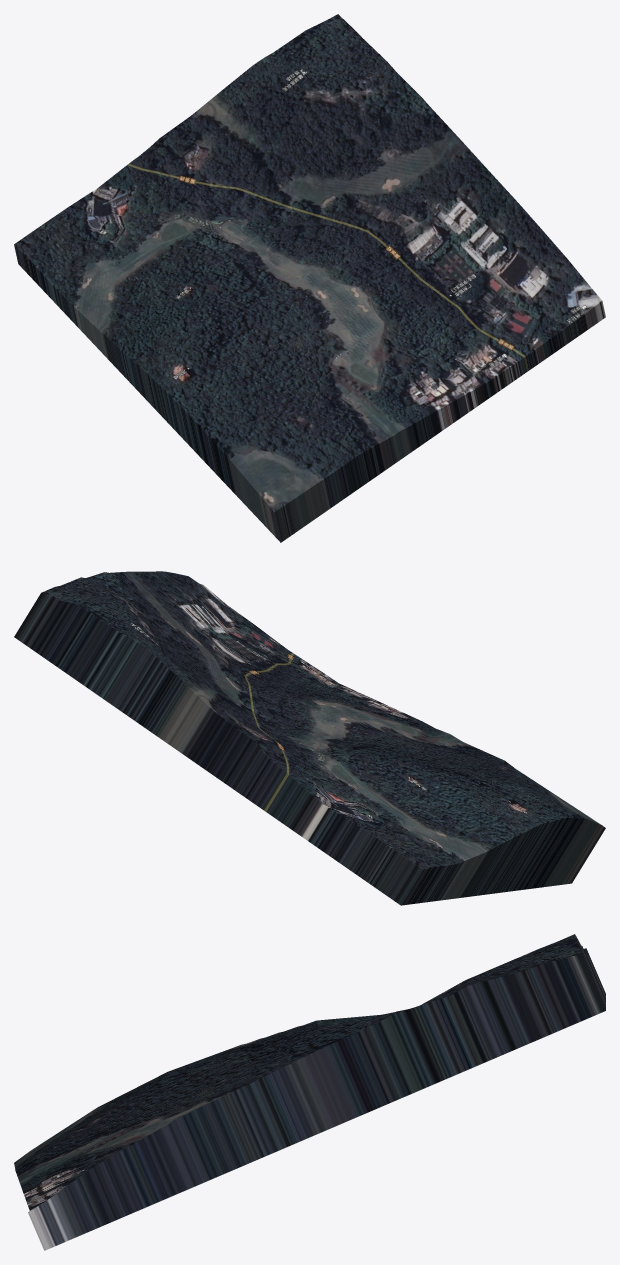
The picture shows the model from 3 angles, top to bottom: view 1: azimuth 30°, elevation 25°; view 2: azimuth 150°, elevation 25°; view 3: azimuth 270°, elevation 25°; orthographic projection. The views are drawn at different scales.
Visible parts, largest first — view 1: 0_4_13; view 2: 0_4_13; view 3: 0_4_13.
Part boxes in pixels (x1,y1,x2,y2): 0_4_13: (14,14,605,542); 0_4_13: (14,571,605,905); 0_4_13: (14,934,605,1250).
Size of the model in its own units: 610 by 479 by 571.
1 material, 1 textured.
